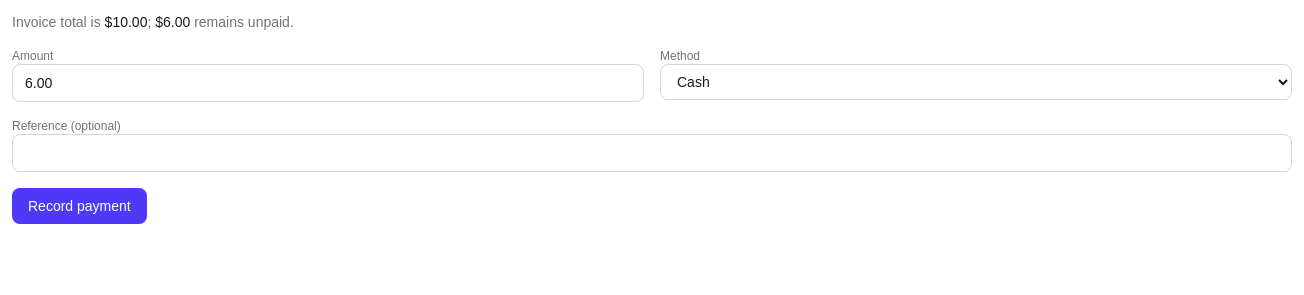
it: PaymentForm › surfaces the backend error and stays on the form
Click the button "Record payment" at (79, 206), box x1=12 y1=188 x2=147 y2=224
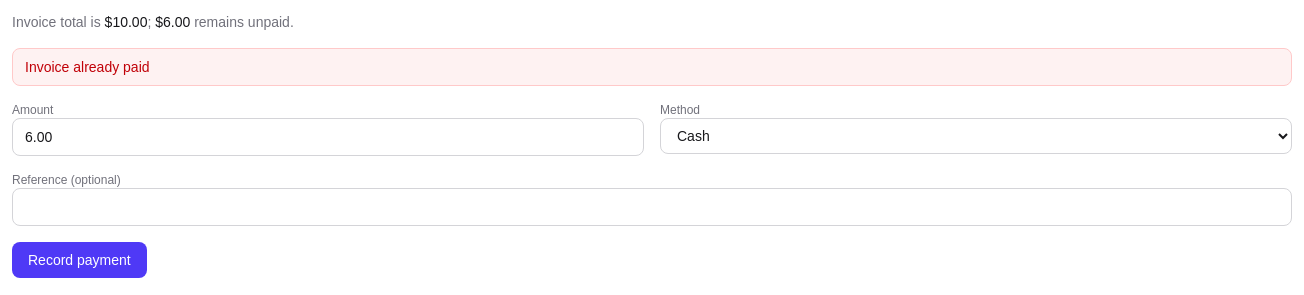
Expected: the message reads "Invoice already paid", x1=25 y1=59 x2=150 y2=75
